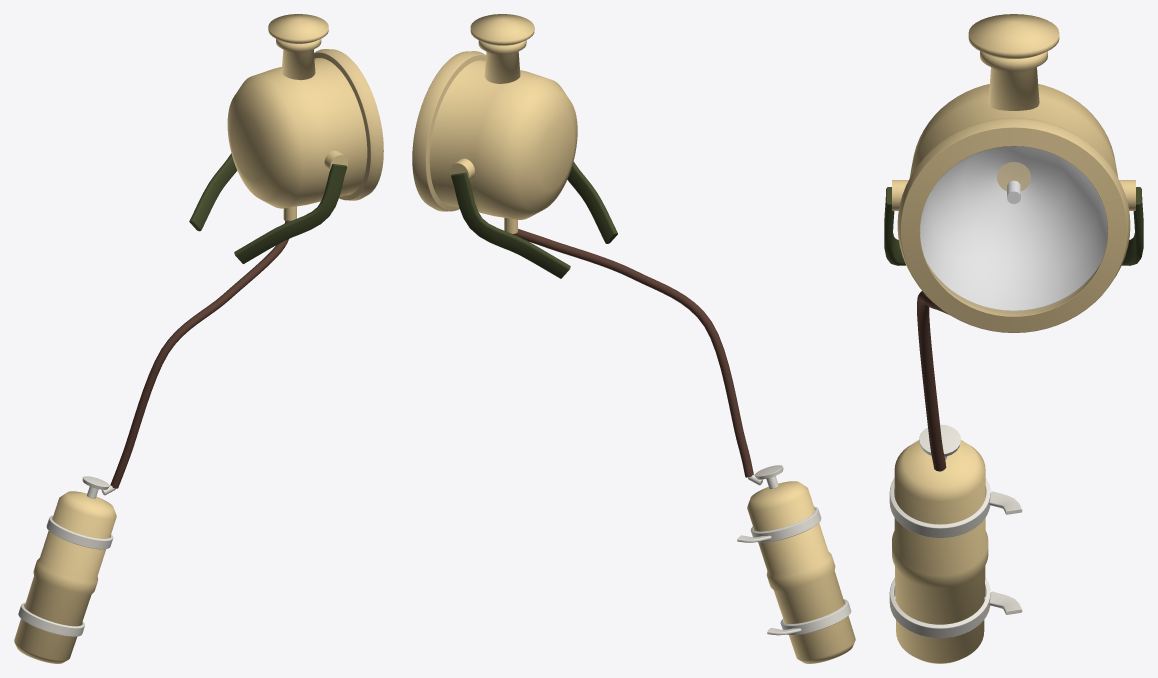
Rendered from bike_vintage_vtwin__headlight.glb.
The picture shows the model from 3 angles, left to right: view 1: azimuth 30°, elevation 25°; view 2: azimuth 150°, elevation 25°; view 3: azimuth 270°, elevation 25°; orthographic projection. The views are drawn at different scales.
Visible parts, largest first — view 1: electrical__headlight, electrical__acetylene_generator, electrical__headlight__bracket, electrical__headlight__bezel, electrical__acetylene_generator__gas_hose, electrical__acetylene_generator__bands_and_valve; view 2: electrical__headlight, electrical__acetylene_generator, electrical__headlight__bracket, electrical__acetylene_generator__gas_hose, electrical__headlight__bezel, electrical__acetylene_generator__bands_and_valve; view 3: electrical__headlight__lens, electrical__headlight__reflector, electrical__acetylene_generator, electrical__headlight__bezel, electrical__headlight, electrical__acetylene_generator__bands_and_valve, electrical__acetylene_generator__gas_hose, electrical__headlight__bracket.
Part boxes in pixels (box(x1,y1,x2,y2)): electrical__headlight: box(227, 14, 367, 220); electrical__acetylene_generator: box(14, 491, 116, 663); electrical__headlight__bracket: box(189, 153, 346, 263); electrical__headlight__bezel: box(314, 49, 383, 200); electrical__acetylene_generator__gas_hose: box(110, 220, 290, 488); electrical__acetylene_generator__bands_and_valve: box(18, 476, 115, 636); electrical__headlight: box(429, 14, 577, 233); electrical__acetylene_generator: box(747, 481, 855, 663); electrical__headlight__bracket: box(451, 161, 617, 278); electrical__acetylene_generator__gas_hose: box(513, 229, 753, 477); electrical__headlight__bezel: box(412, 51, 485, 211); electrical__acetylene_generator__bands_and_valve: box(737, 465, 851, 635); electrical__headlight__lens: box(920, 146, 1107, 313); electrical__headlight__reflector: box(920, 146, 1107, 310); electrical__acetylene_generator: box(892, 440, 988, 663); electrical__headlight__bezel: box(897, 117, 1130, 332); electrical__headlight: box(892, 14, 1135, 210); electrical__acetylene_generator__bands_and_valve: box(889, 424, 1022, 638); electrical__acetylene_generator__gas_hose: box(917, 291, 948, 471); electrical__headlight__bracket: box(884, 187, 1143, 265).
Size of the model in its own units: 43.2 by 64.74 by 18.27.
